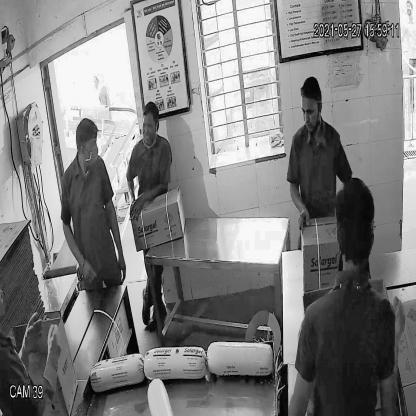no_goggles: (297, 100, 323, 121)
